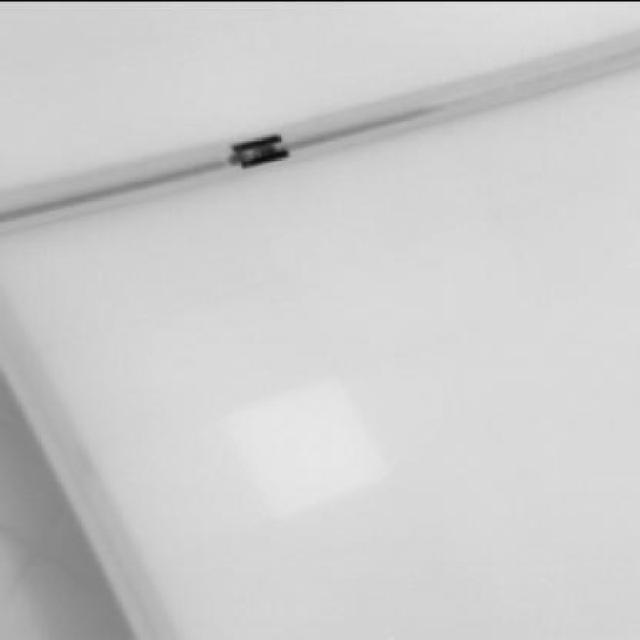hotspot: (222, 372, 390, 526)
